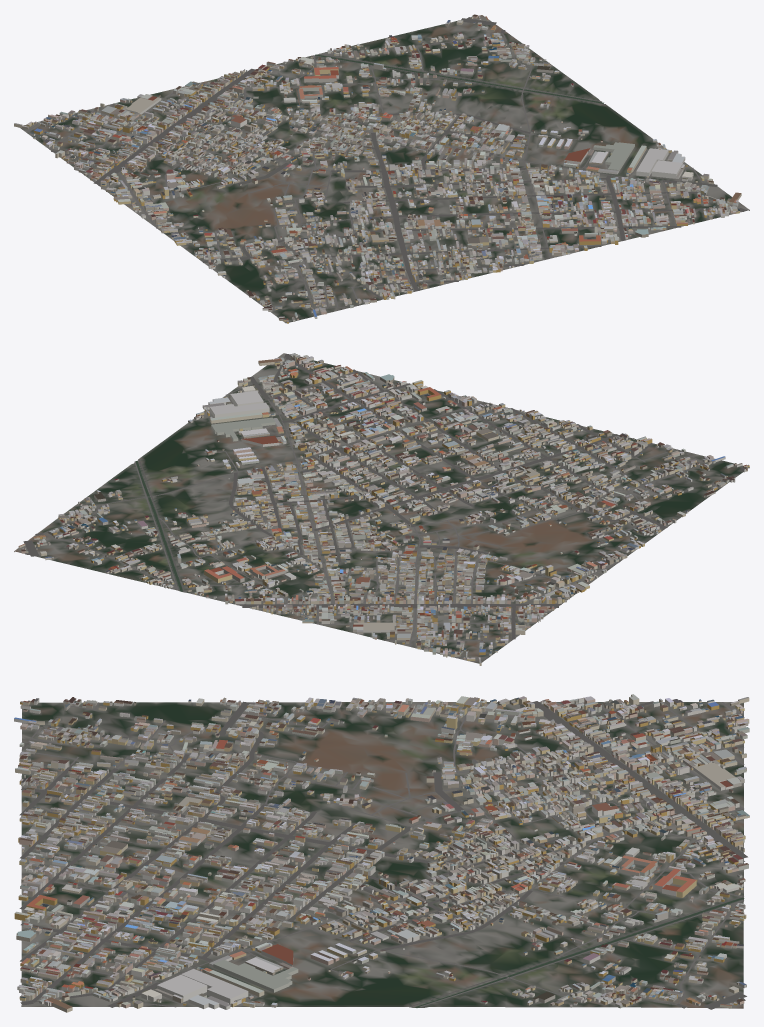
3 views of the same model, one above another, from view 1: azimuth 30°, elevation 25°; view 2: azimuth 150°, elevation 25°; view 3: azimuth 270°, elevation 25° (orthographic). The views are drawn at different scales.
Visible parts, largest first — view 1: buildings, ground, roads; view 2: buildings, ground, roads; view 3: buildings, ground, roads, water.
Part boxes in pixels (x1,y1,x2,y2): buildings: (14, 14, 741, 323); ground: (18, 15, 749, 323); roads: (26, 17, 746, 310); buildings: (18, 353, 749, 665); ground: (14, 353, 749, 663); roads: (23, 354, 722, 658); buildings: (14, 694, 749, 1012); ground: (21, 702, 743, 1008); roads: (19, 701, 747, 1009); water: (415, 897, 744, 1007).
Size of the model in its own units: 1437 by 29.71 by 1427.
